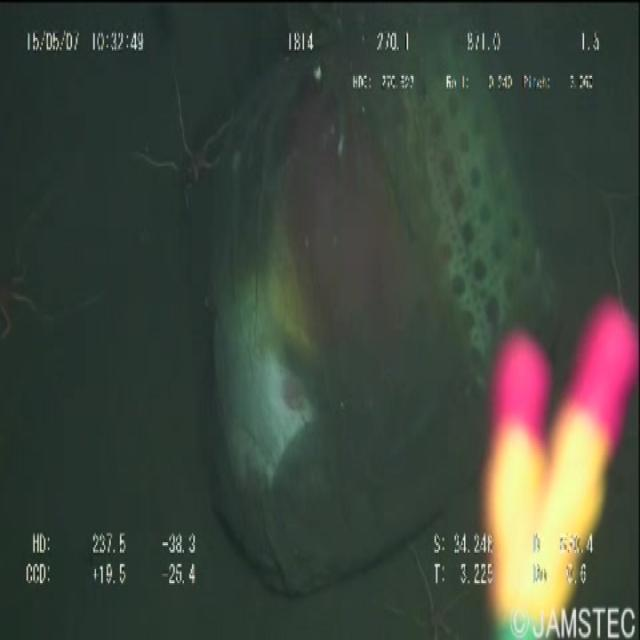Litter: (180, 14, 574, 602)
